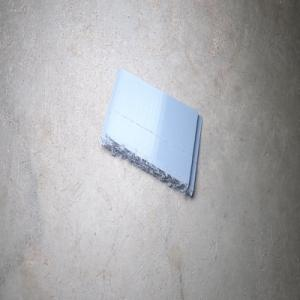PlasticPart: (98, 68, 202, 197)
